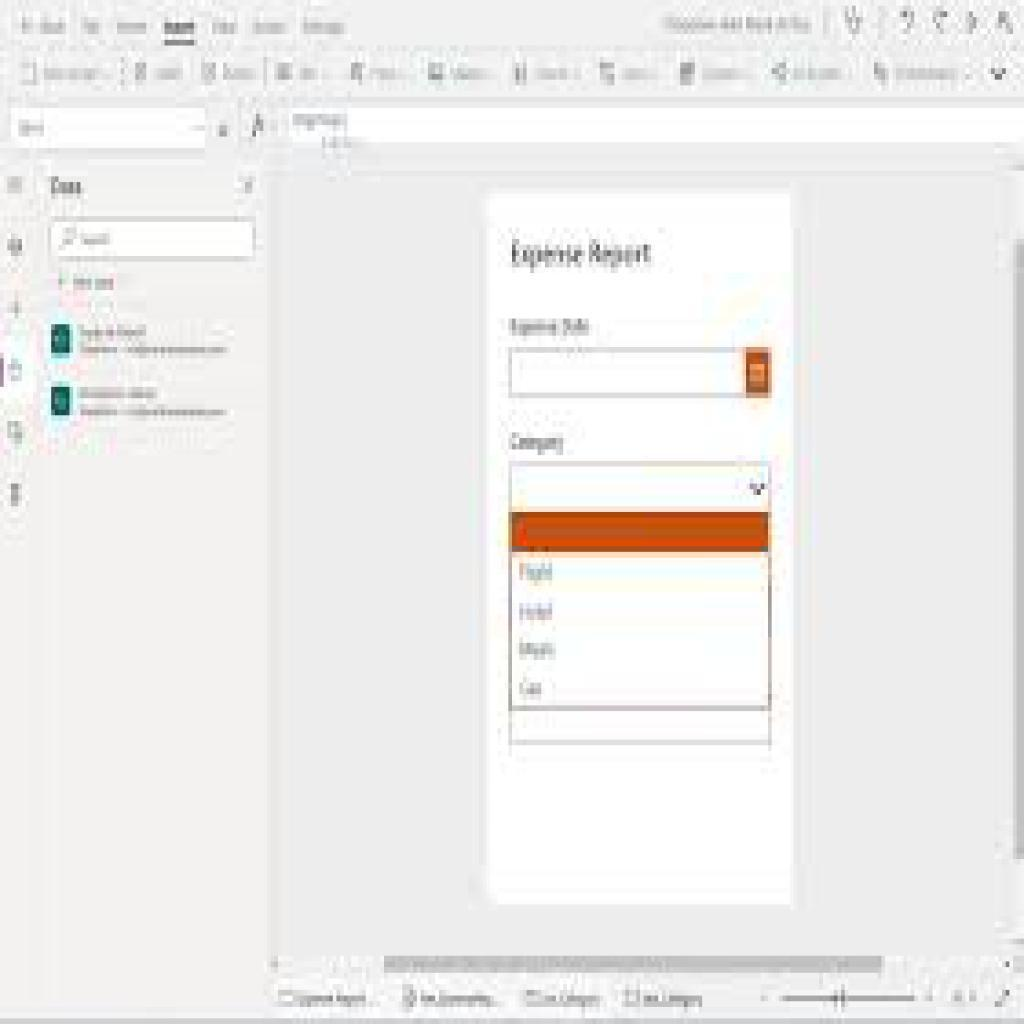dropdown: (508, 348, 769, 399), (510, 465, 769, 513)
input: (50, 217, 255, 258)
